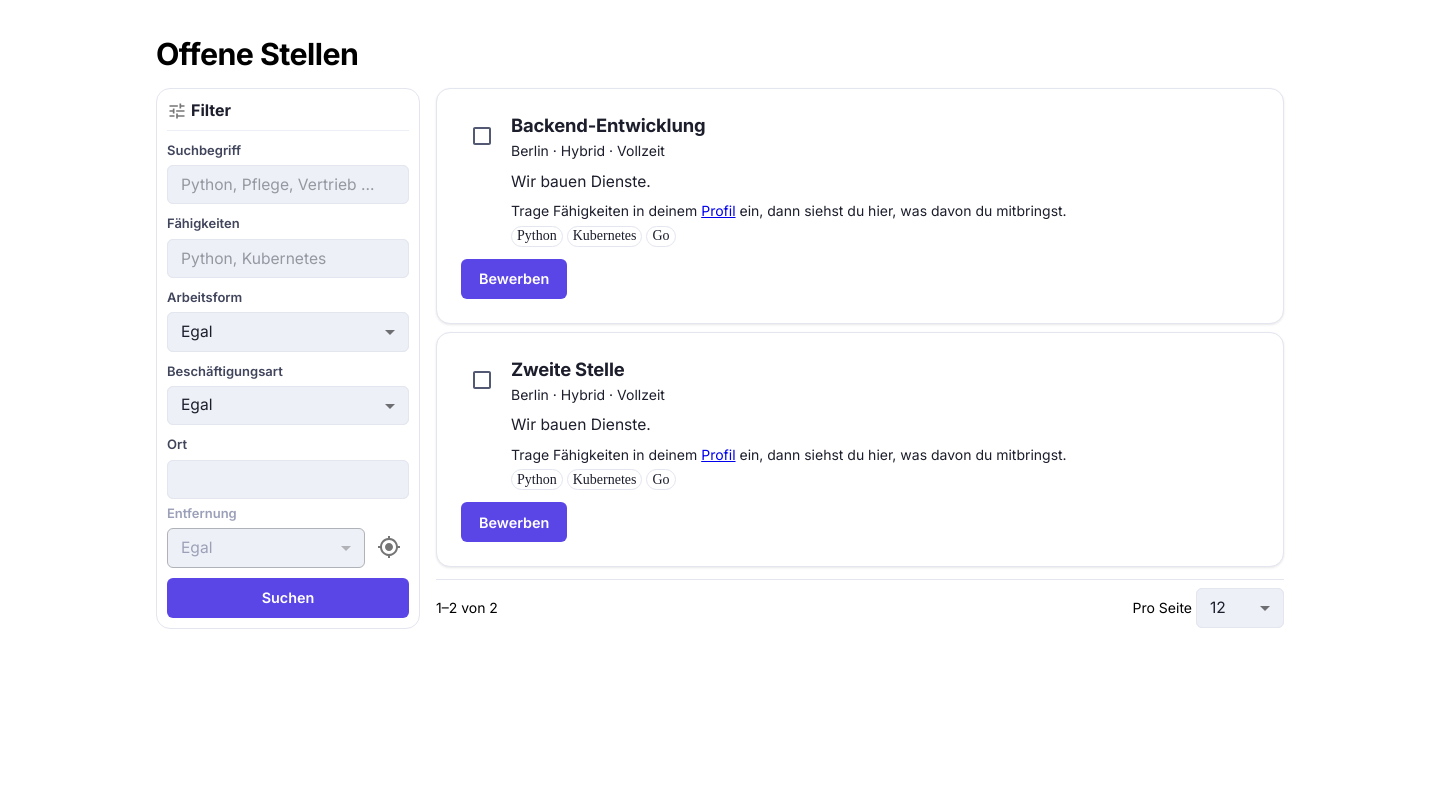
JobsPage › zeigt beim Sammelschreiben, wie viele Entwürfe fertig sind
Expected: the heading "Backend-Entwicklung" is shown, [511, 114, 705, 136]
Click the checkbox named "Stelle auswählen". click: (482, 136)
box: [470, 124, 494, 148]
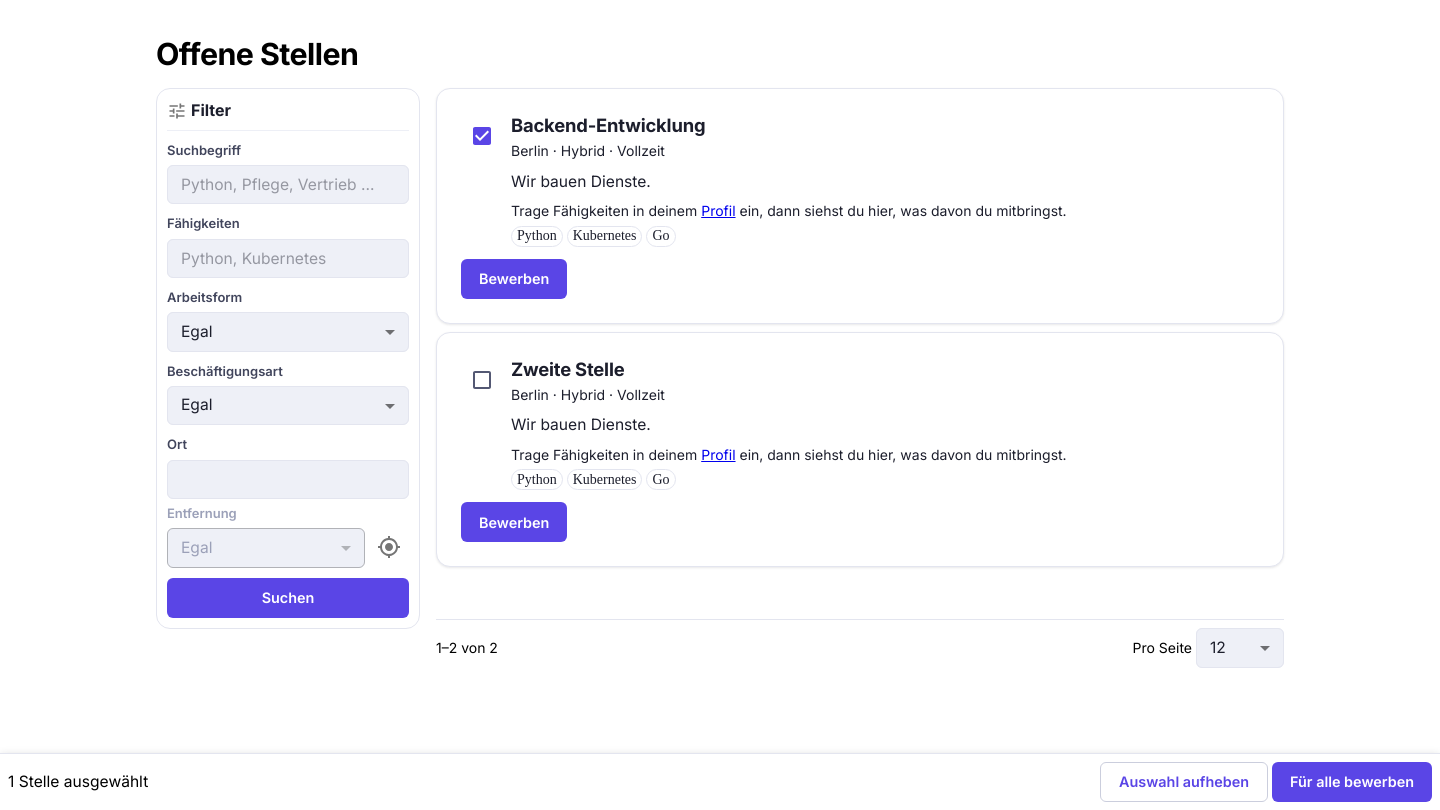
Click the checkbox named "Stelle auswählen". click: (482, 380)
box: [470, 368, 494, 392]
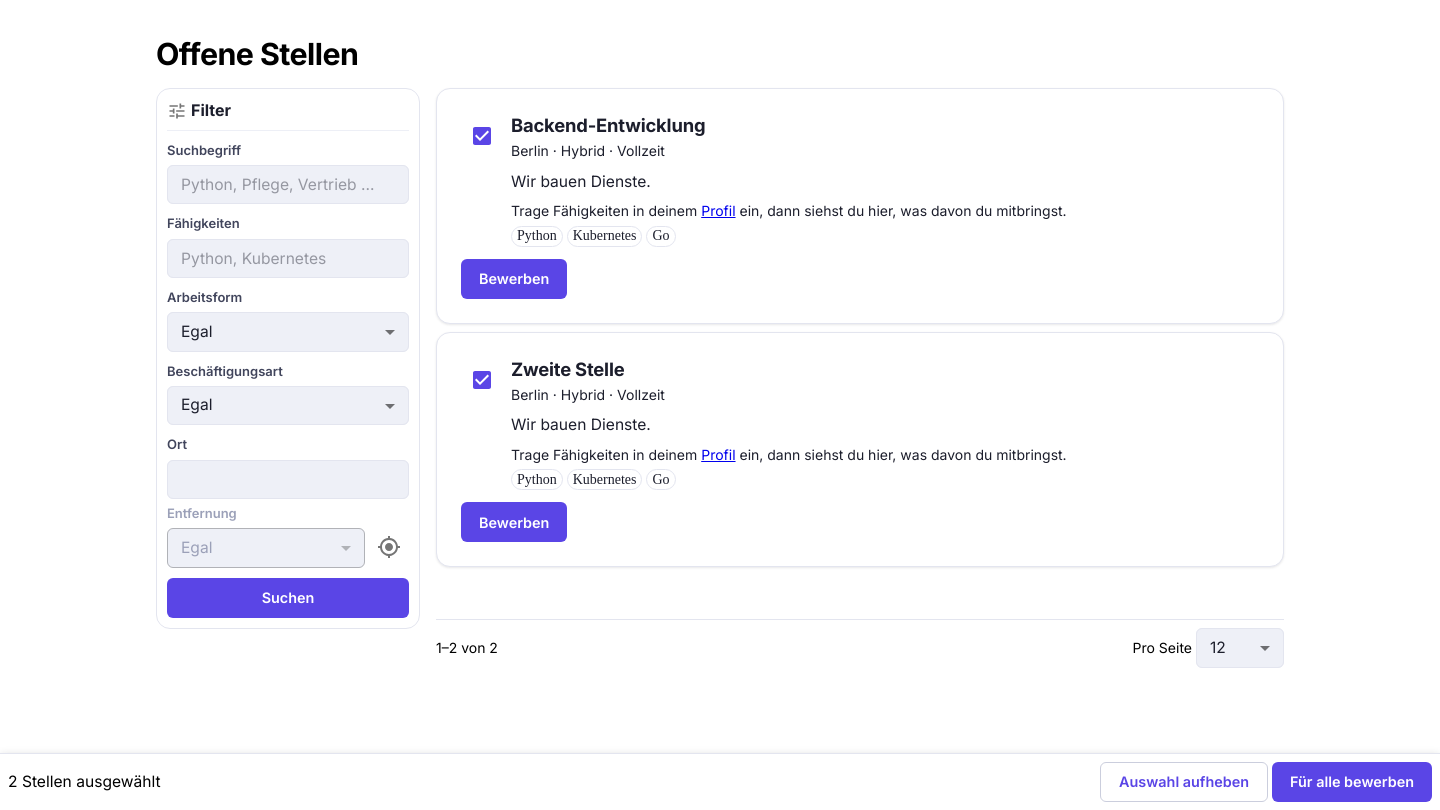
Click the button "Für alle bewerben". click: (1352, 782)
box: [1272, 762, 1432, 802]
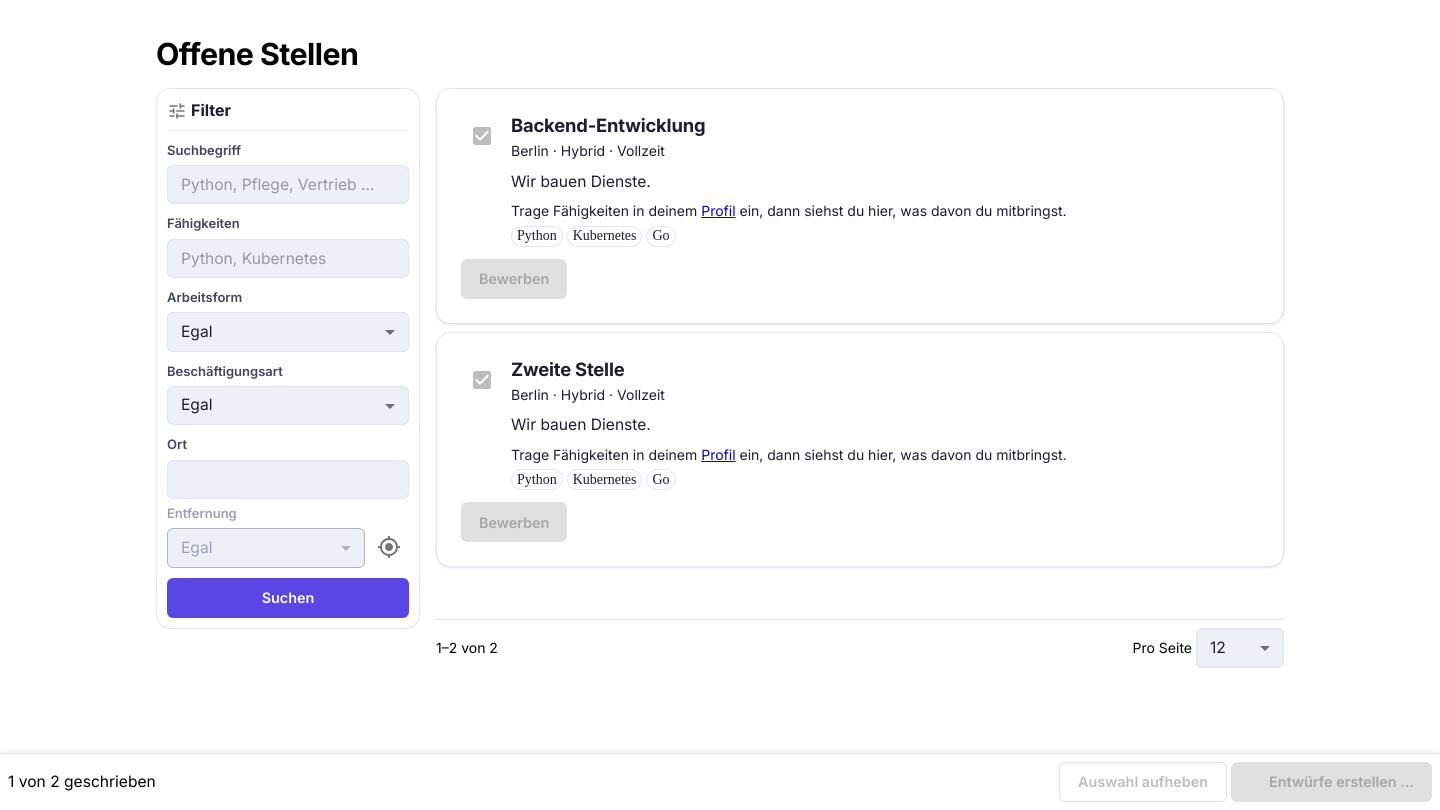
Result: the text "1 von 2 geschrieben" is shown at [8, 769, 156, 795]
